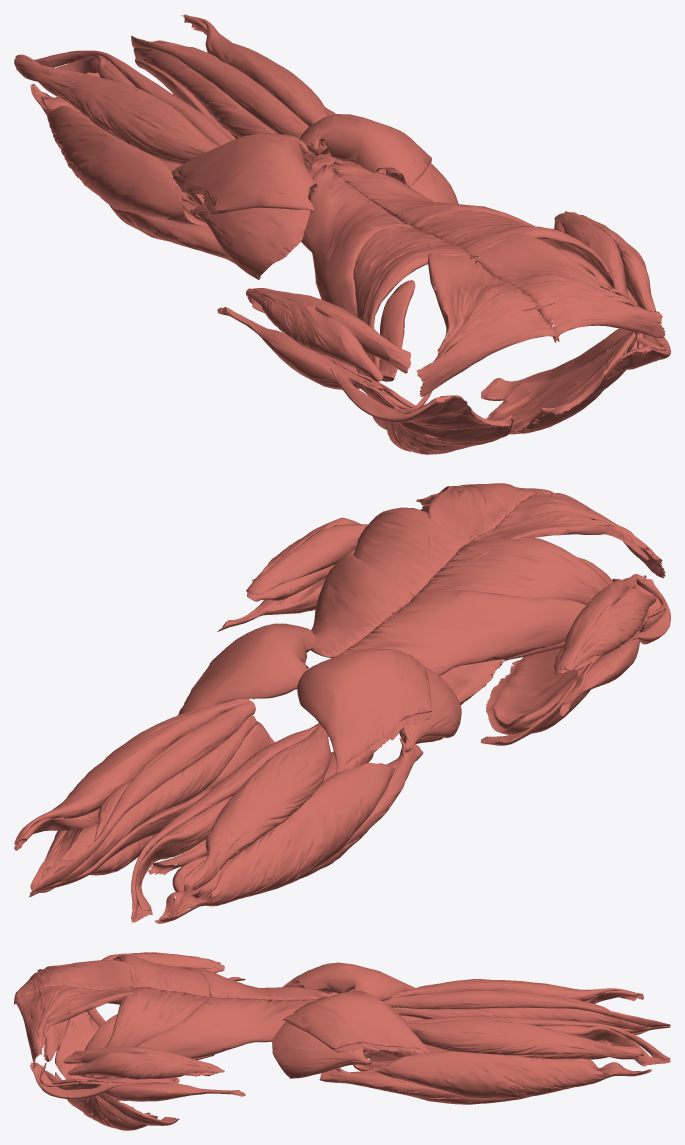
Rendered from anatomy-v1.glb.
3 views of the same model, one above another, from view 1: azimuth 30°, elevation 25°; view 2: azimuth 150°, elevation 25°; view 3: azimuth 270°, elevation 25° (orthographic). The views are drawn at different scales.
Parts seen in each view (by area): view 1: right latissimus dorsi, right gluteus maximus, right vastus lateralis, long head of right biceps femoris, left latissimus dorsi, ascending part of left trapezius, ascending part of right trapezius, left gluteus maximus, right gluteus medius, sternocostal part of left pectoralis major, lateral head of right triceps brachii, left semitendinosus (+20 smaller); view 2: right latissimus dorsi, left latissimus dorsi, right gluteus maximus, right vastus lateralis, long head of right biceps femoris, left gluteus maximus, long head of left biceps femoris, left semitendinosus, left semimembranosus, sternocostal part of right pectoralis major, ascending part of right trapezius, ascending part of left trapezius (+23 smaller); view 3: left latissimus dorsi, left vastus lateralis, left gluteus maximus, long head of left biceps femoris, right latissimus dorsi, right semitendinosus, left gluteus medius, lateral head of left triceps brachii, right gluteus maximus, right semimembranosus, ascending part of left trapezius, left rectus femoris (+20 smaller).
Boxes of the visible parts, bbox=[...] form: right latissimus dorsi: bbox=[301, 164, 471, 377]; right gluteus maximus: bbox=[171, 132, 318, 213]; right vastus lateralis: bbox=[30, 84, 208, 227]; long head of right biceps femoris: bbox=[14, 57, 219, 164]; left latissimus dorsi: bbox=[330, 162, 636, 305]; ascending part of left trapezius: bbox=[436, 232, 638, 310]; ascending part of right trapezius: bbox=[427, 238, 539, 359]; left gluteus maximus: bbox=[300, 114, 431, 187]; right gluteus medius: bbox=[190, 203, 310, 279]; sternocostal part of left pectoralis major: bbox=[486, 332, 636, 434]; lateral head of right triceps brachii: bbox=[246, 288, 383, 381]; left semitendinosus: bbox=[131, 35, 328, 156]; right latissimus dorsi: bbox=[330, 537, 608, 675]; left latissimus dorsi: bbox=[310, 507, 470, 657]; right gluteus maximus: bbox=[297, 649, 431, 773]; right vastus lateralis: bbox=[159, 763, 395, 921]; long head of right biceps femoris: bbox=[181, 723, 330, 890]; left gluteus maximus: bbox=[177, 623, 317, 715]; long head of left biceps femoris: bbox=[14, 698, 249, 848]; left semitendinosus: bbox=[29, 700, 255, 894]; left semimembranosus: bbox=[58, 715, 257, 882]; sternocostal part of right pectoralis major: bbox=[486, 648, 590, 734]; ascending part of right trapezius: bbox=[438, 492, 650, 572]; ascending part of left trapezius: bbox=[426, 483, 537, 579]; left latissimus dorsi: bbox=[83, 987, 327, 1078]; left vastus lateralis: bbox=[369, 1051, 649, 1098]; left gluteus maximus: bbox=[283, 991, 430, 1057]; long head of left biceps femoris: bbox=[406, 1018, 643, 1059]; right latissimus dorsi: bbox=[113, 954, 327, 999]; right semitendinosus: bbox=[383, 990, 670, 1027]; left gluteus medius: bbox=[272, 1021, 367, 1078]; lateral head of left triceps brachii: bbox=[68, 1051, 220, 1079]; right gluteus maximus: bbox=[283, 962, 414, 1000]; right semimembranosus: bbox=[392, 996, 649, 1029]; ascending part of left trapezius: bbox=[37, 985, 179, 1051]; left rectus femoris: bbox=[319, 1062, 651, 1104].
Bounding box in the file's own units: 460 × 244 × 1099.
